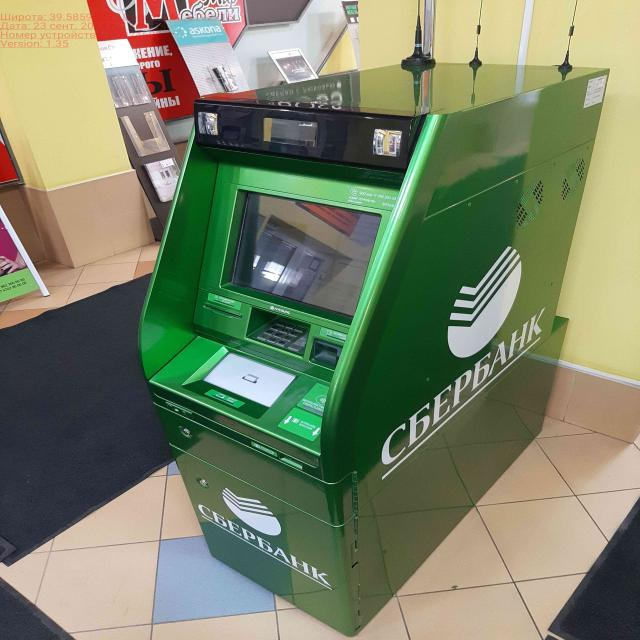bank: (142, 62, 610, 633)
